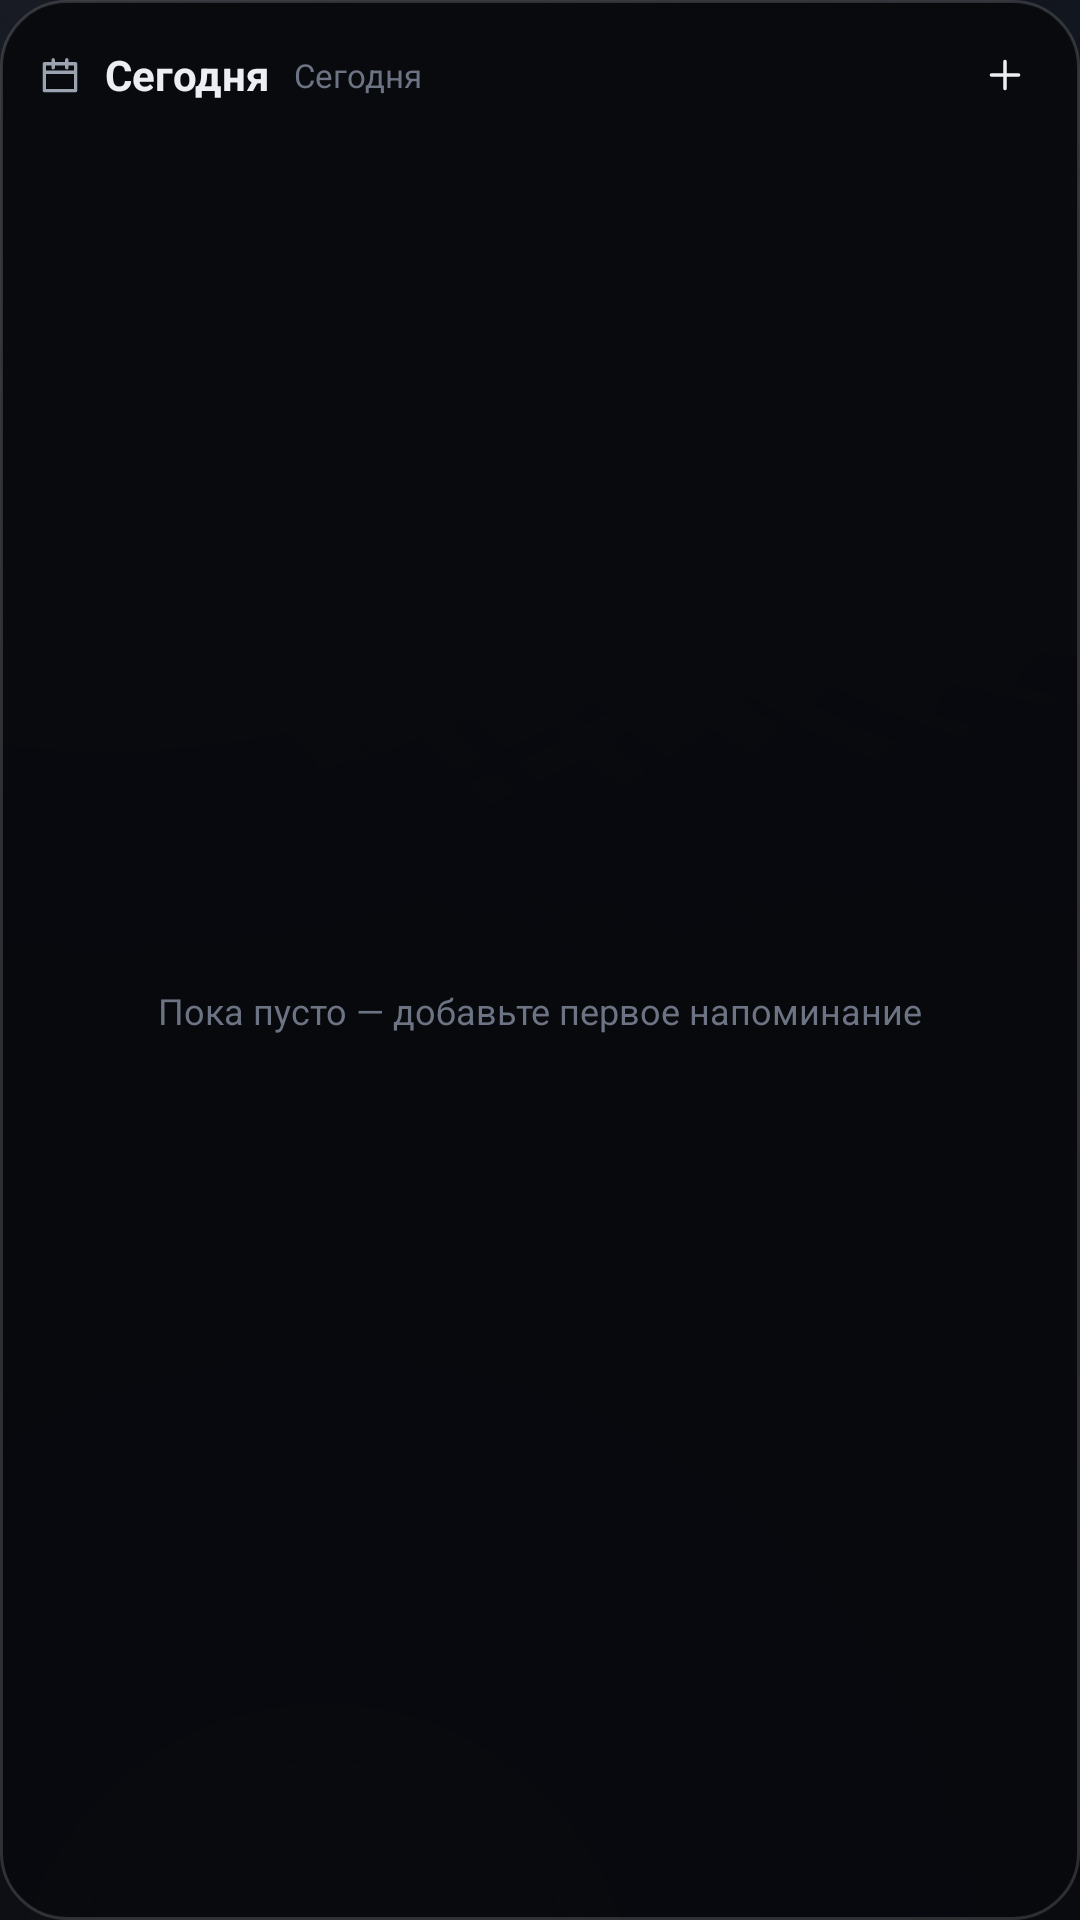

Named icons in this screenshot (1080px x 1920px) and their centers, [x,y]:
Новое напоминание: [1005,75]
